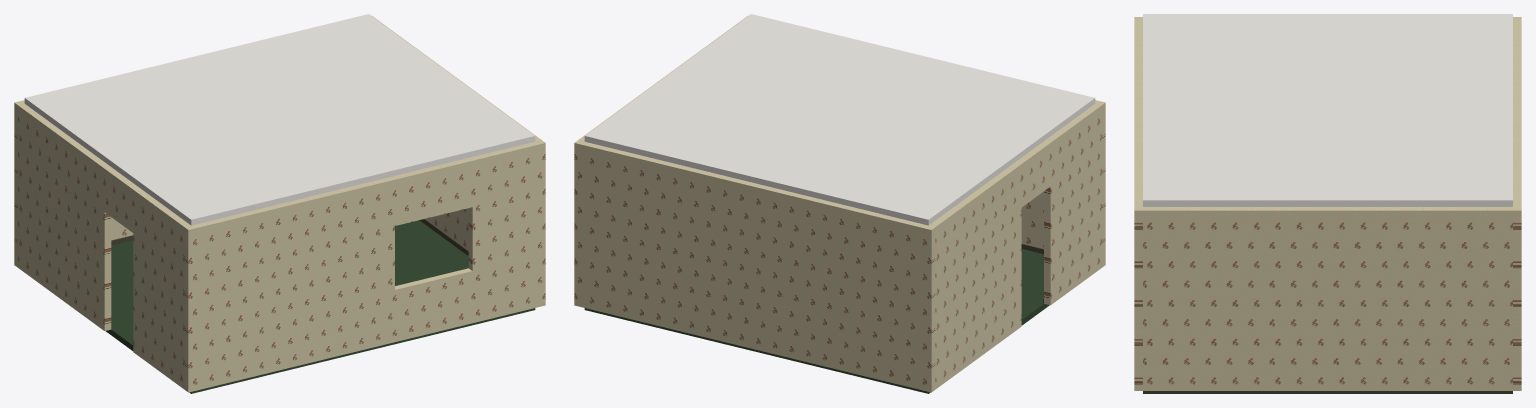
Rendered from ENV_RoomShell.fbx.
The picture shows the model from 3 angles, left to right: view 1: azimuth 30°, elevation 25°; view 2: azimuth 150°, elevation 25°; view 3: azimuth 270°, elevation 25°; orthographic projection. The views are drawn at different scales.
Visible parts, largest first — view 1: Shell_Ceiling, Shell_Wall_N, Shell_Wall_E, Shell_Floor, Shell_Wall_W, Shell_Wall_S; view 2: Shell_Wall_S, Shell_Ceiling, Shell_Wall_E, Shell_Floor, Shell_Wall_N; view 3: Shell_Ceiling, Shell_Wall_W, Shell_Wall_N, Shell_Wall_S, Shell_Floor.
Boxes of the visible parts, x1,y1,x2,y2 form: Shell_Ceiling: (24,14,535,225); Shell_Wall_N: (184,140,545,392); Shell_Wall_E: (18,103,190,389); Shell_Floor: (105,220,535,393); Shell_Wall_W: (375,18,541,250); Shell_Wall_S: (14,15,374,267); Shell_Wall_S: (574,140,935,392); Shell_Ceiling: (584,14,1095,225); Shell_Wall_E: (929,103,1101,389); Shell_Floor: (584,249,1049,393); Shell_Wall_N: (745,15,1105,267); Shell_Ceiling: (1143,14,1512,206); Shell_Wall_W: (1143,207,1512,390); Shell_Wall_N: (1134,17,1142,390); Shell_Wall_S: (1513,17,1521,390); Shell_Floor: (1143,391,1512,393).
Size of the model in its own units: 644 by 300 by 544.
